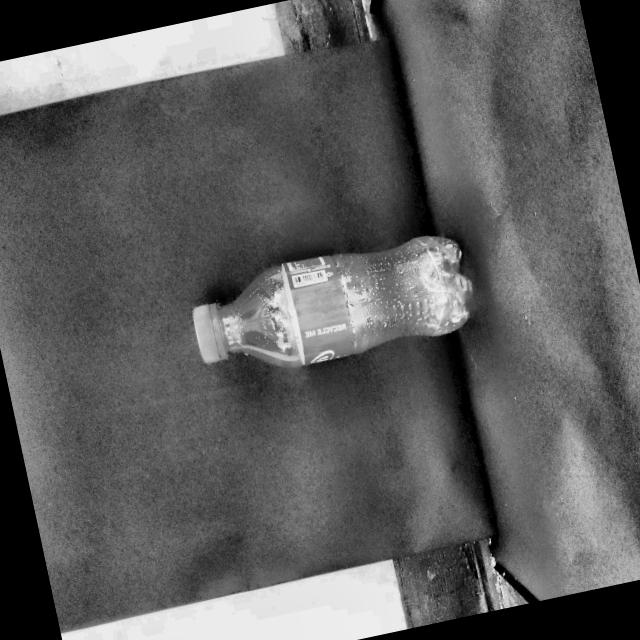Plastic-Bottle: (182, 224, 484, 390)
